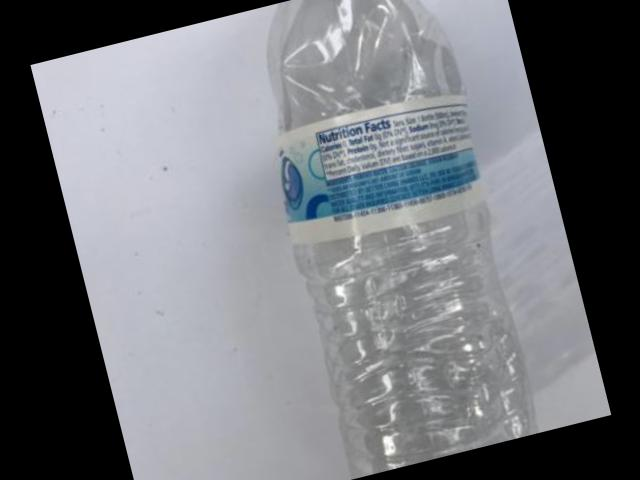plastic: (268, 0, 537, 479)
